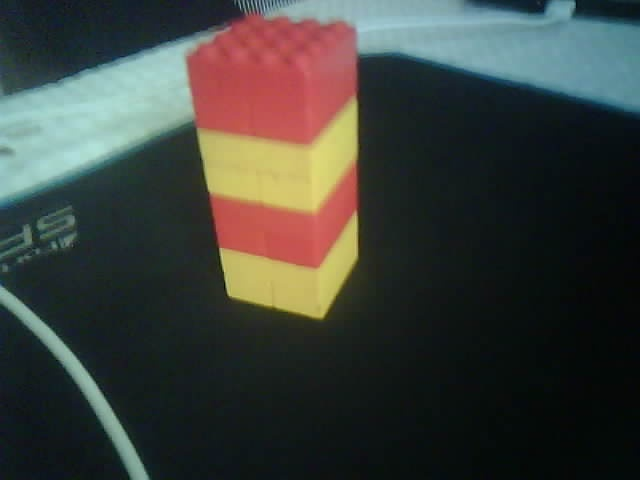lego: (184, 10, 361, 321)
